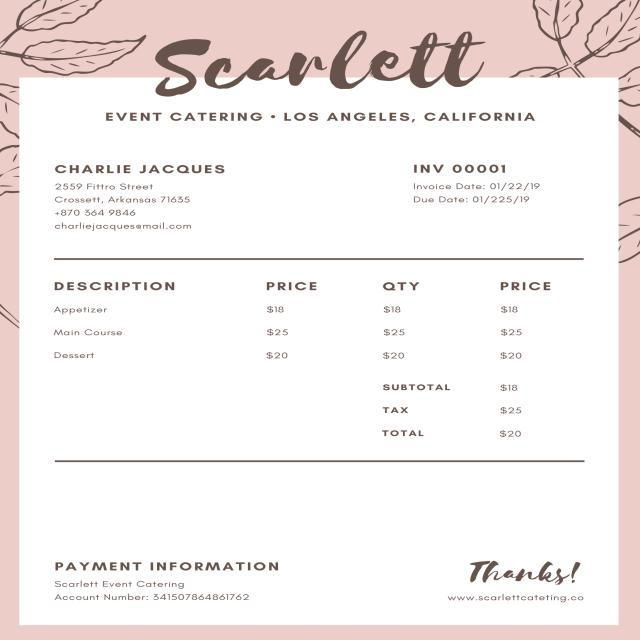ROI: (43, 270, 564, 367), (152, 29, 486, 95), (52, 156, 232, 237), (52, 550, 282, 611), (375, 376, 541, 446), (443, 545, 596, 615), (99, 107, 537, 128), (409, 159, 549, 212)
